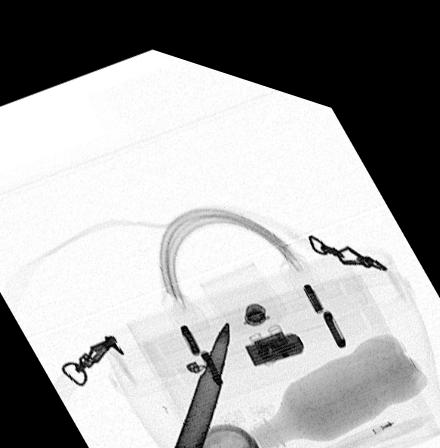Bullet: (169, 304, 229, 448)
